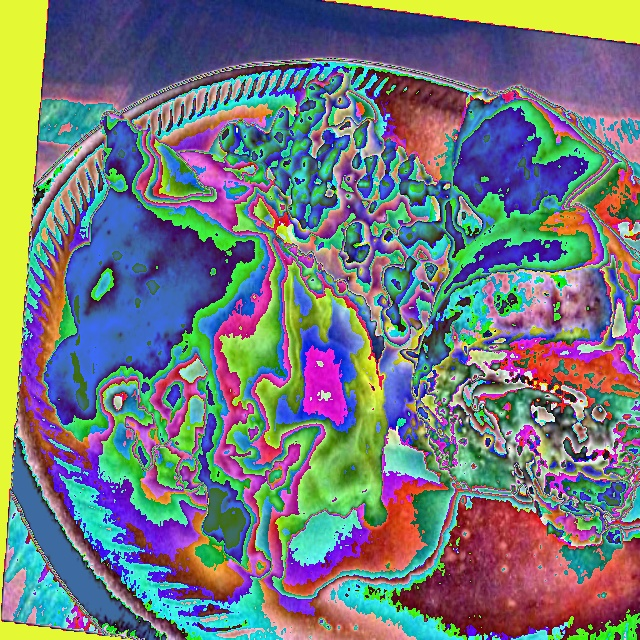background: (42, 71, 639, 584)
